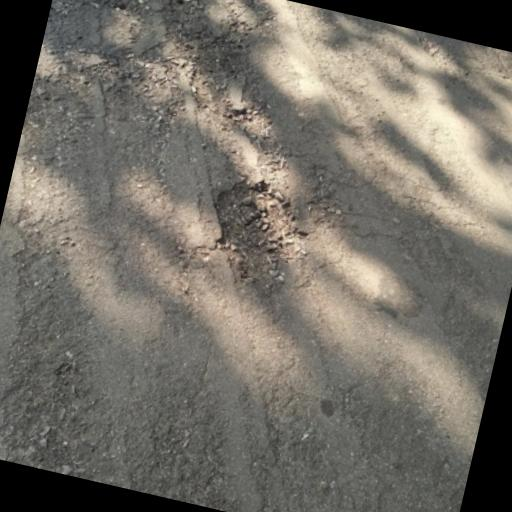pothole: (193, 173, 320, 292)
